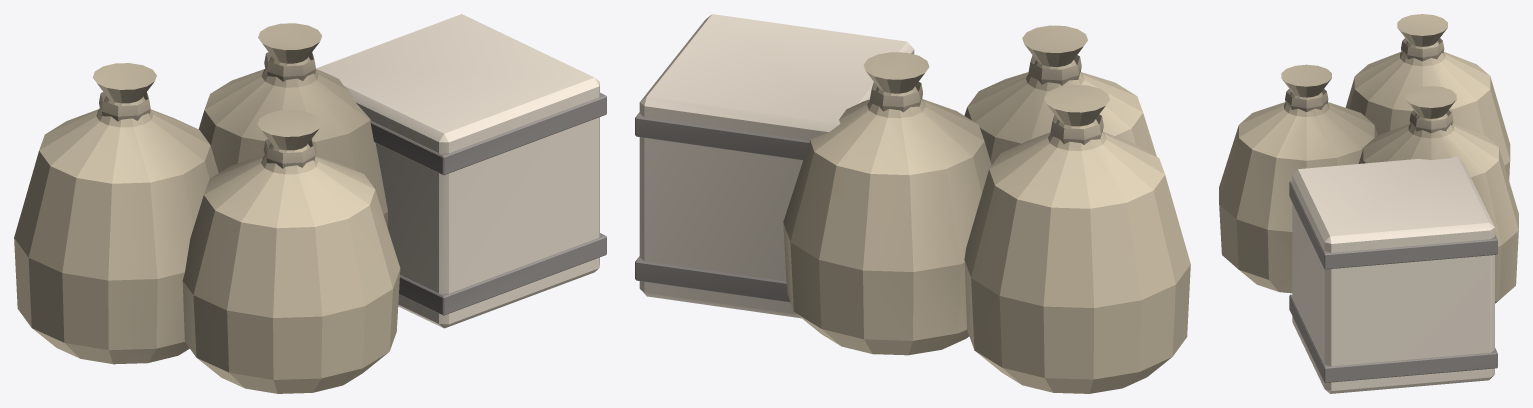
File: dngp_sacks.glb
3 renders of one model, left to right at view 1: azimuth 30°, elevation 25°; view 2: azimuth 150°, elevation 25°; view 3: azimuth 270°, elevation 25°, orthographic. The views are drawn at different scales.
Parts seen in each view (by area): view 1: crate; view 2: crate; view 3: crate.
Part boxes in pixels (x1,y1,x2,y2): crate: [14, 14, 606, 393]; crate: [635, 14, 1190, 393]; crate: [1219, 14, 1518, 393].
Bounding box in the file's own units: 1.67 × 0.7846 × 1.03.
